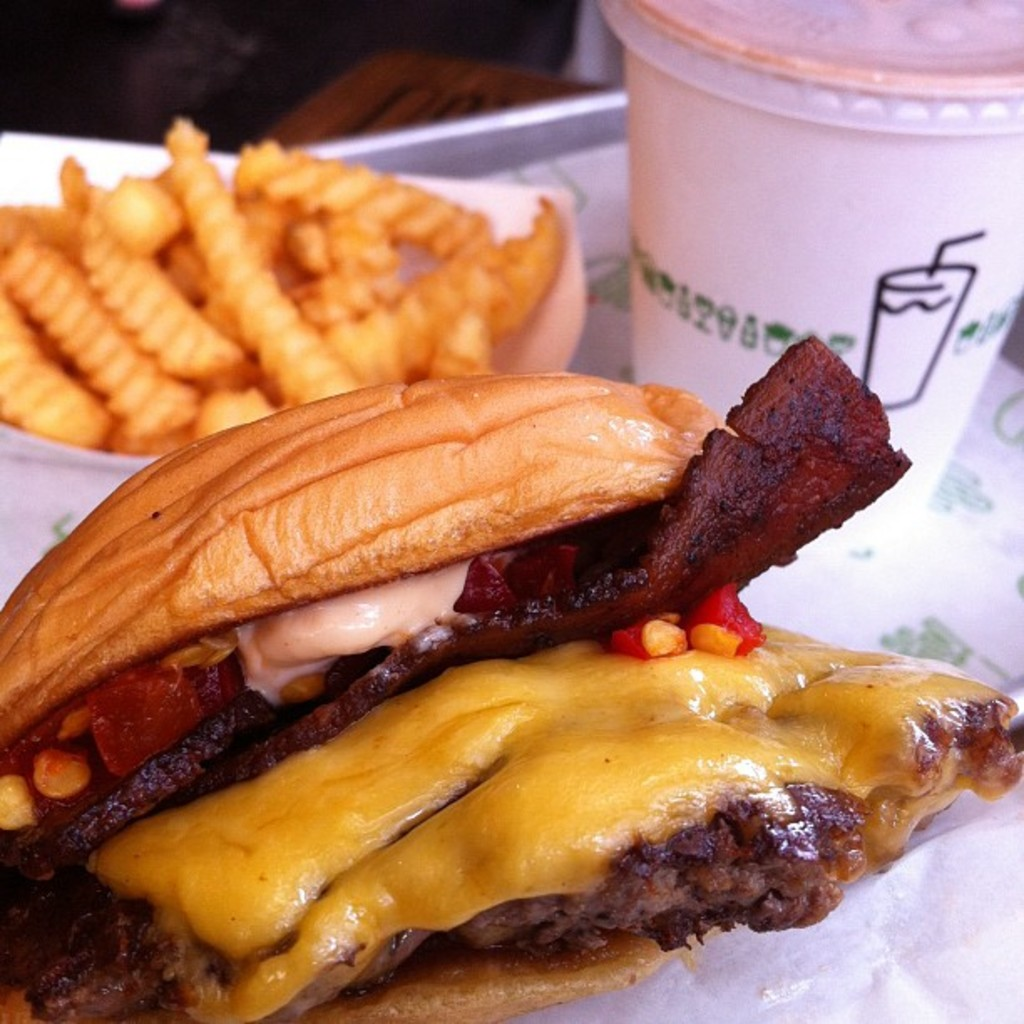French fries: (0, 98, 568, 433)
